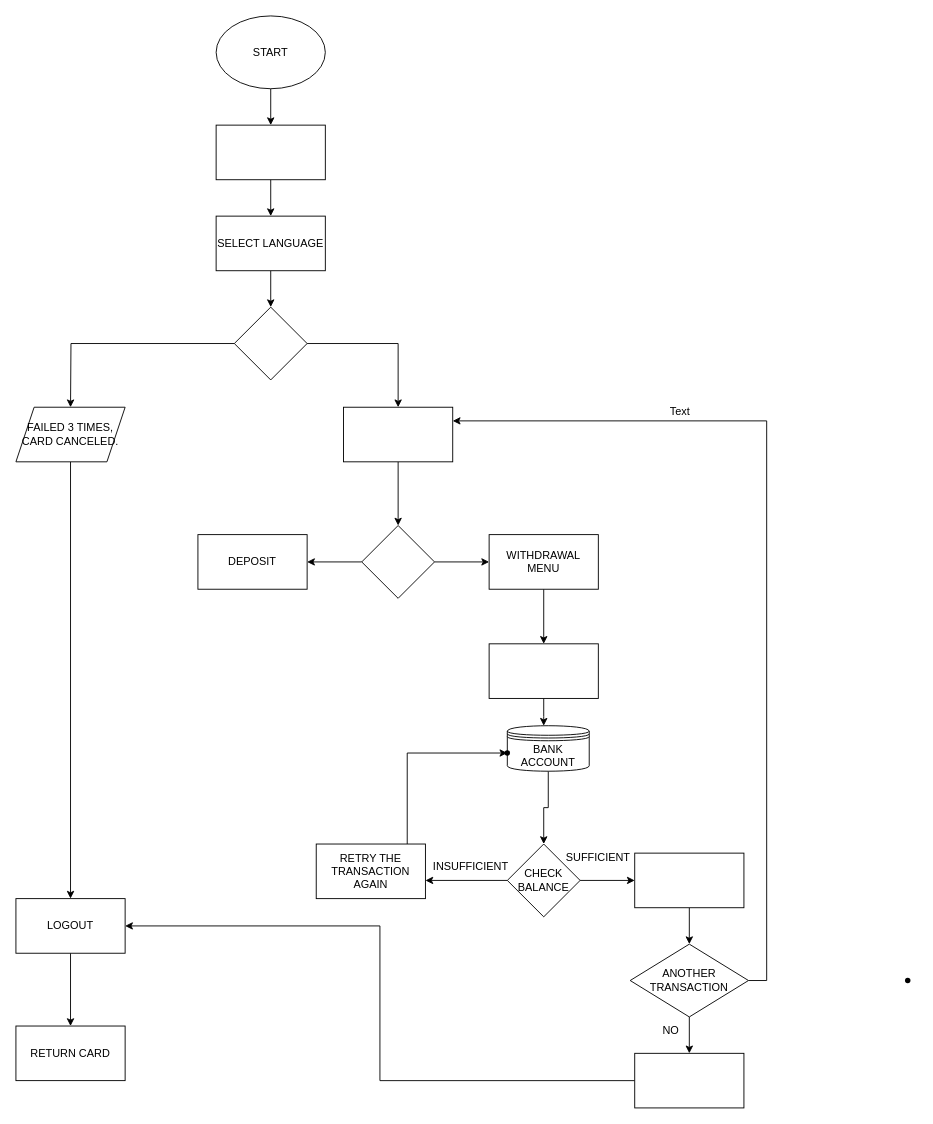
The diagram is 933 pixels wide and 1124 high, and some of its shapes have lost their labels. Here are the shapes that lost their labels. From the top down, the centre of each, then its label:
At (270,152): "INSERT CARD".
At (270,343): "ENTER PIN".
At (398,434): "DASHBOARD".
At (543,670): "SELECT AMOUNT".
At (689,880): "DISPENSE CASH".
At (689,1080): "PRINT RECEIPT".
